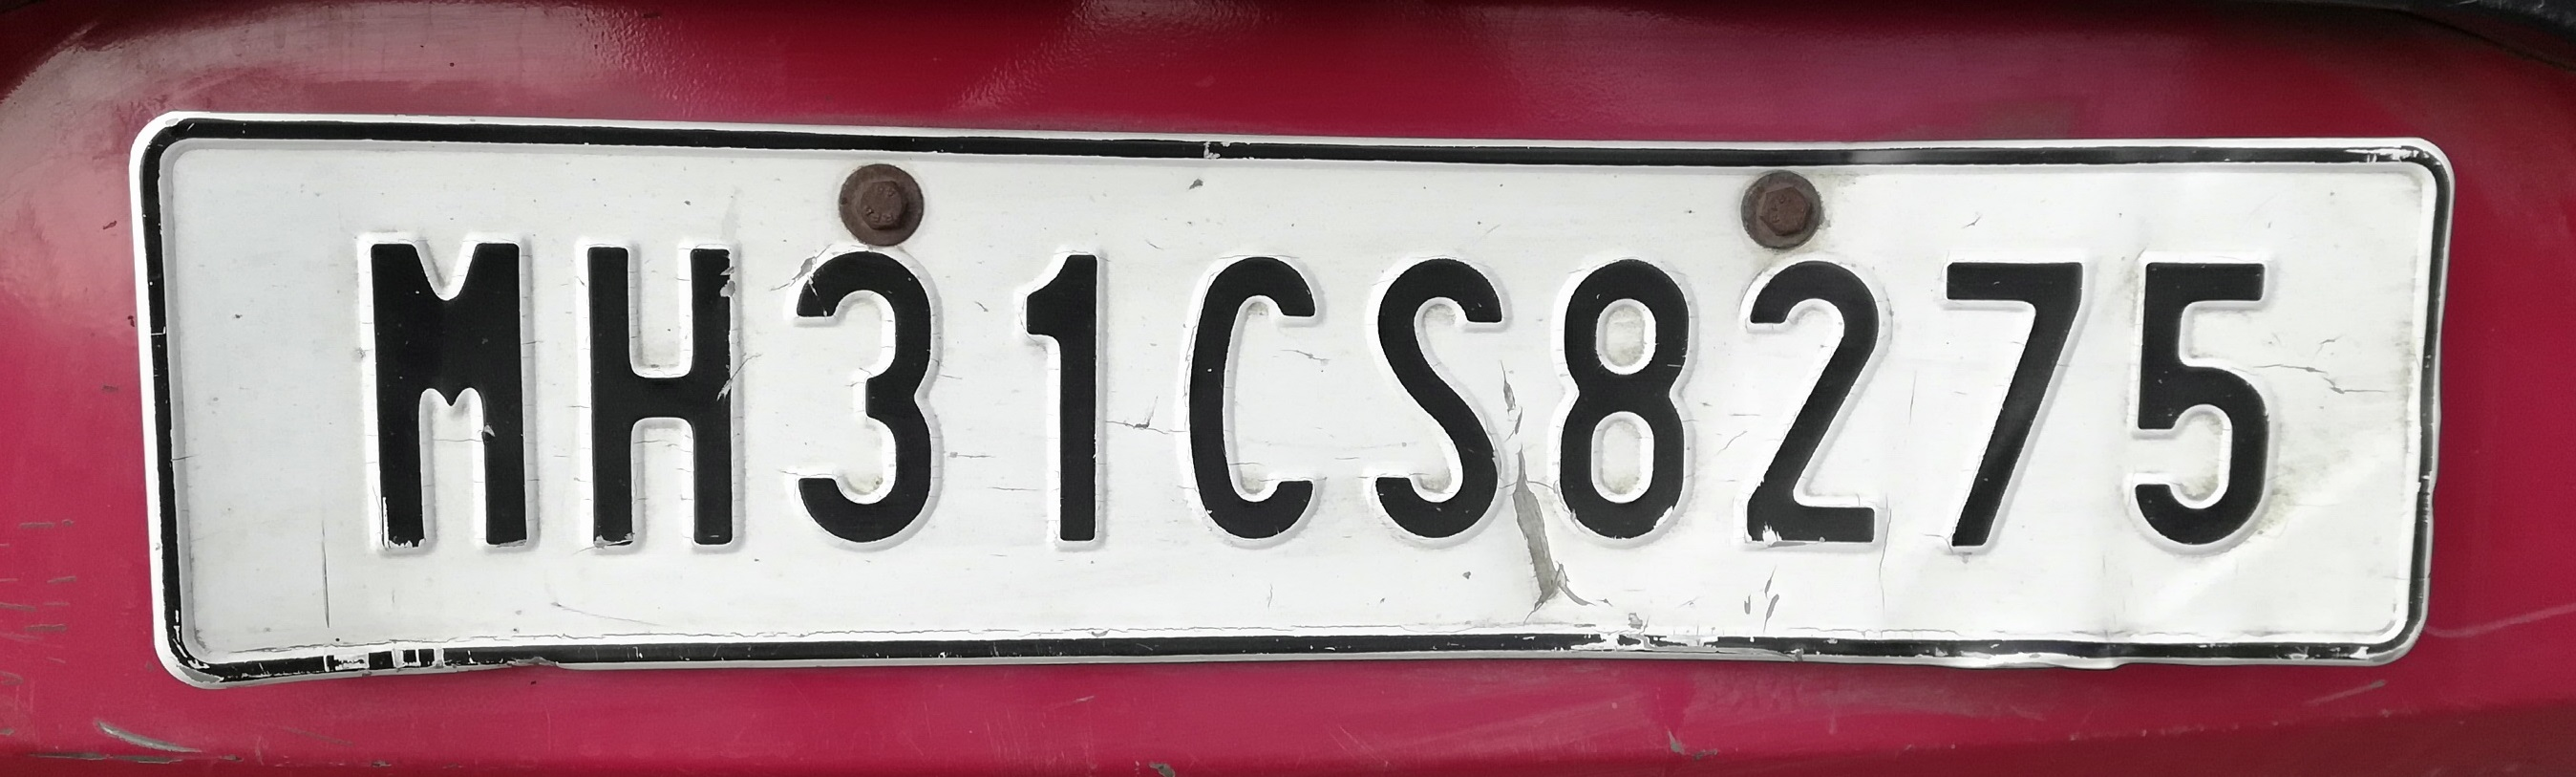numberplate: (127, 91, 2441, 697)
